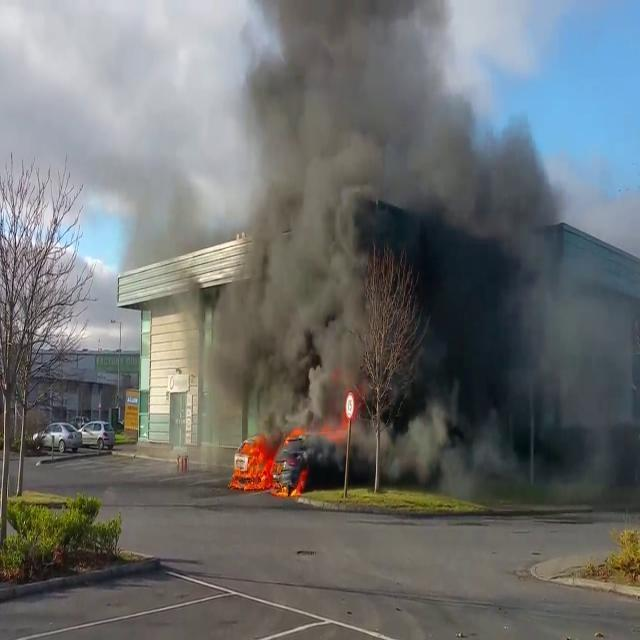Fire: (227, 436, 290, 494)
Smoke: (204, 1, 637, 472)
